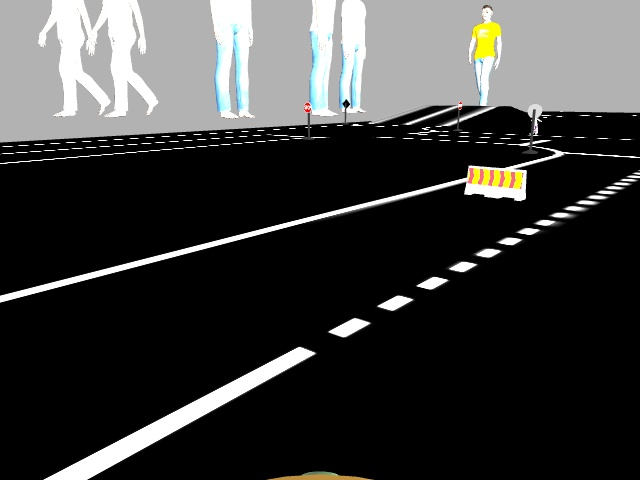ClosedRoadStand: (467, 165, 524, 198)
